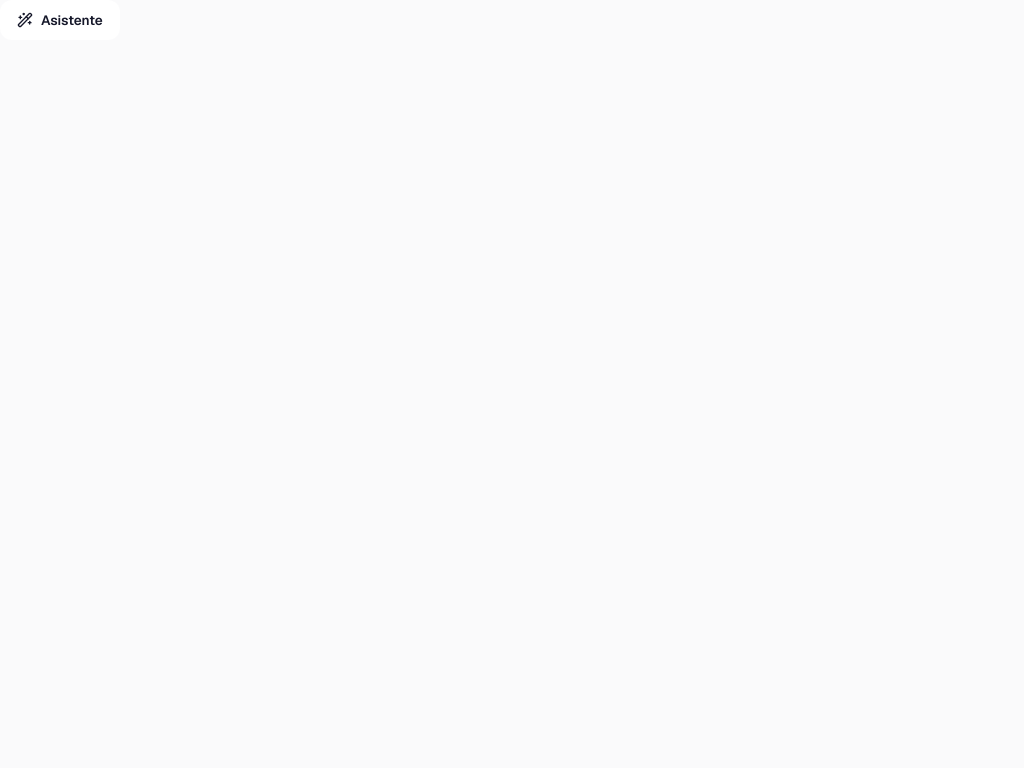
Test: AssistantSidePanel › abre con el contexto cargado, el pedido sugerido y el botón Responder en la bandeja
This screenshot has width=1024, height=768.
Click the button with test id "assistant-side-open" at x=60, y=20, box [0,0,120,40]
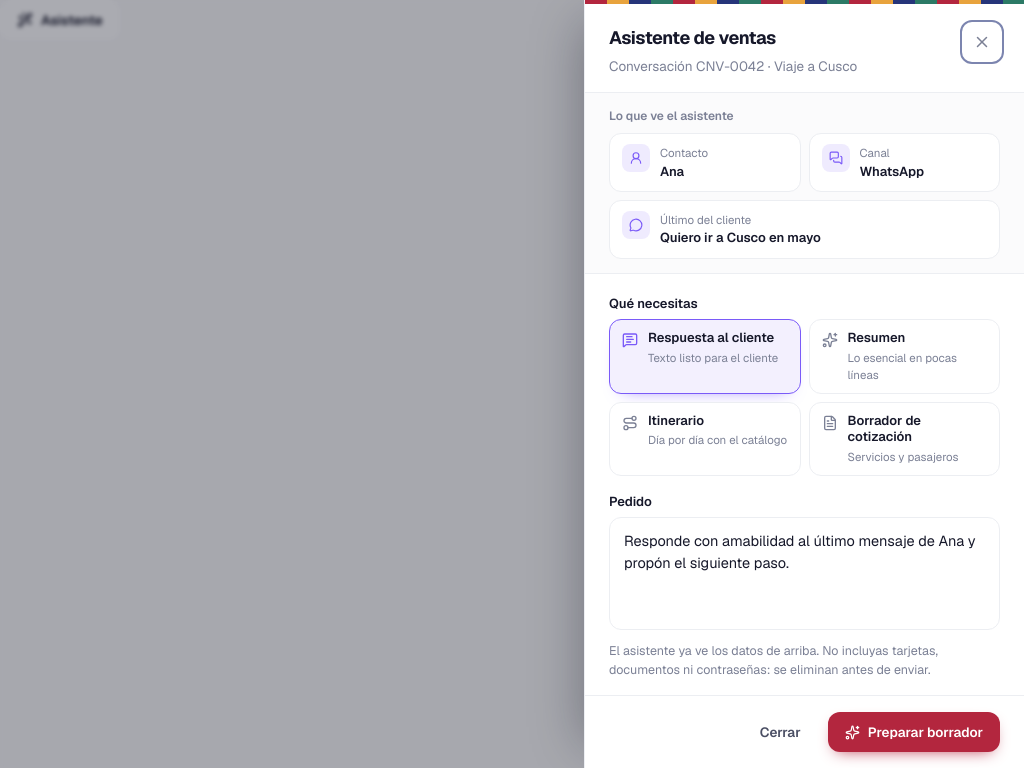
Expected: the list with test id "assistant-context" shows "Quiero ir a Cusco en mayo", [660,229,821,246]
Expected: the text box with test id "field:prompt" holds "Responde con amabilidad al último mensaje de Ana y propón el siguiente paso.", [609,517,1000,630]
Click the radio button with test id "option:summary" at x=904, y=357, box [808,319,1000,394]
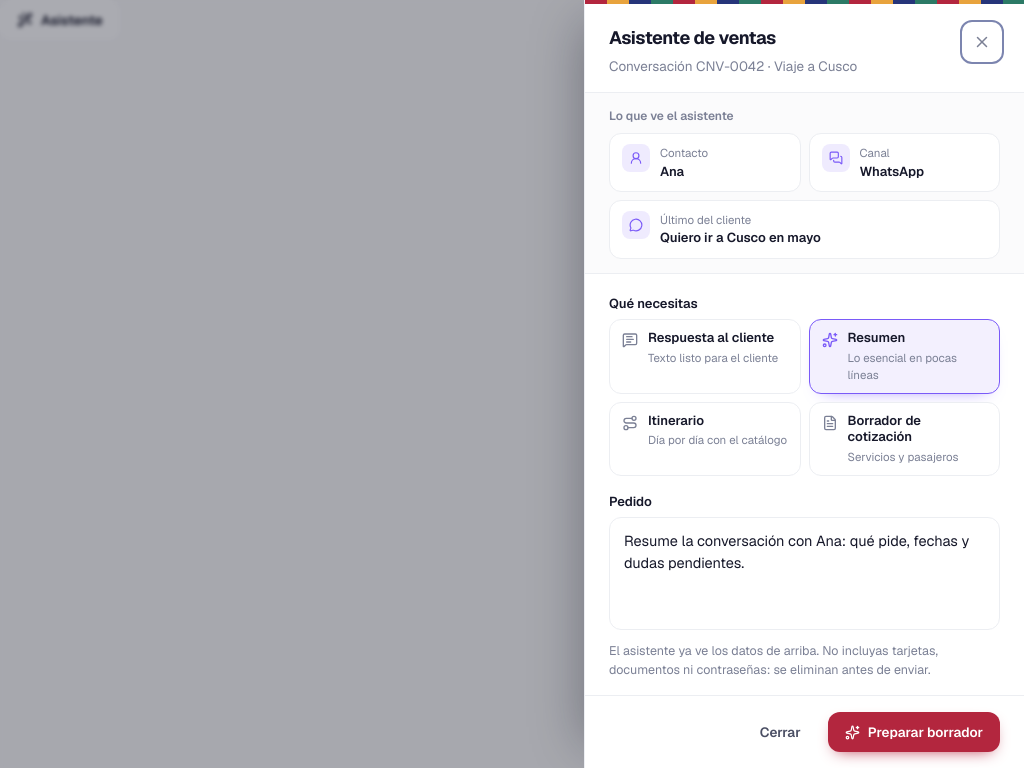
Expected: the text box with test id "field:prompt" holds "Resume la conversación con Ana: qué pide, fechas y dudas pendientes.", [609,517,1000,630]
